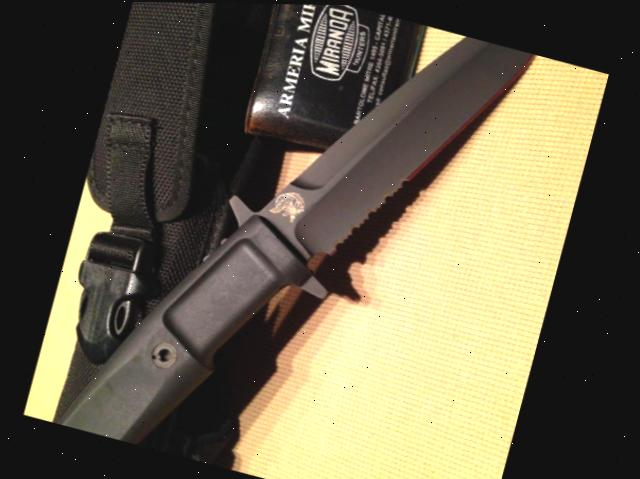pocket-knife: (42, 1, 541, 479)
